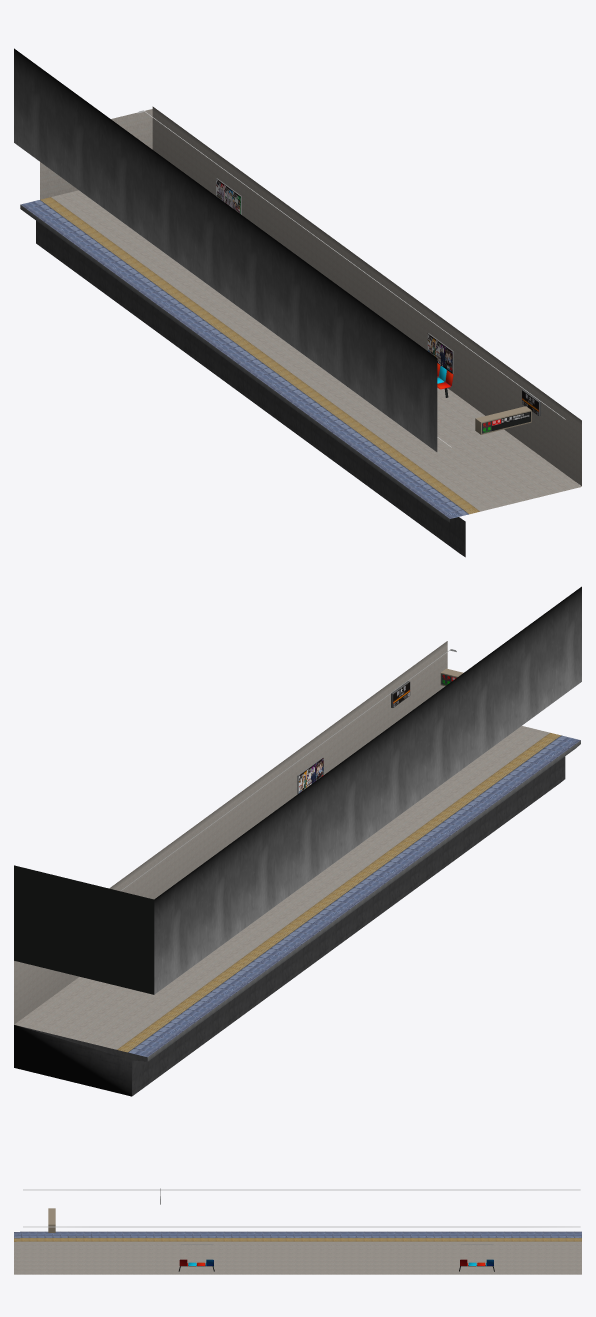
File: AMB_HOME1_CHIKA.glb
3 views of the same model, one above another, from view 1: azimuth 30°, elevation 25°; view 2: azimuth 150°, elevation 25°; view 3: azimuth 270°, elevation 25° (orthographic). The views are drawn at different scales.
Parts seen in each view (by area): view 1: Mesh1, obj29, obj28; view 2: Mesh1; view 3: Mesh1, obj28, obj27.
Boxes of the visible parts, x1,y1,x2,y2 form: Mesh1: (14, 48, 581, 557); obj29: (475, 406, 531, 434); obj28: (427, 333, 453, 397); Mesh1: (14, 586, 581, 1096); Mesh1: (14, 1189, 581, 1274); obj28: (178, 1244, 214, 1271); obj27: (459, 1244, 494, 1271).
Size of the model in its own units: 18.92 by 26.11 by 101.
26 materials, 25 textured.
